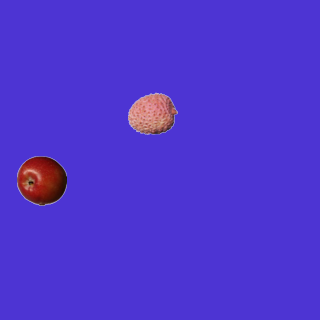Apple Braeburn: (16, 155, 66, 205)
Lychee: (127, 88, 177, 138)
